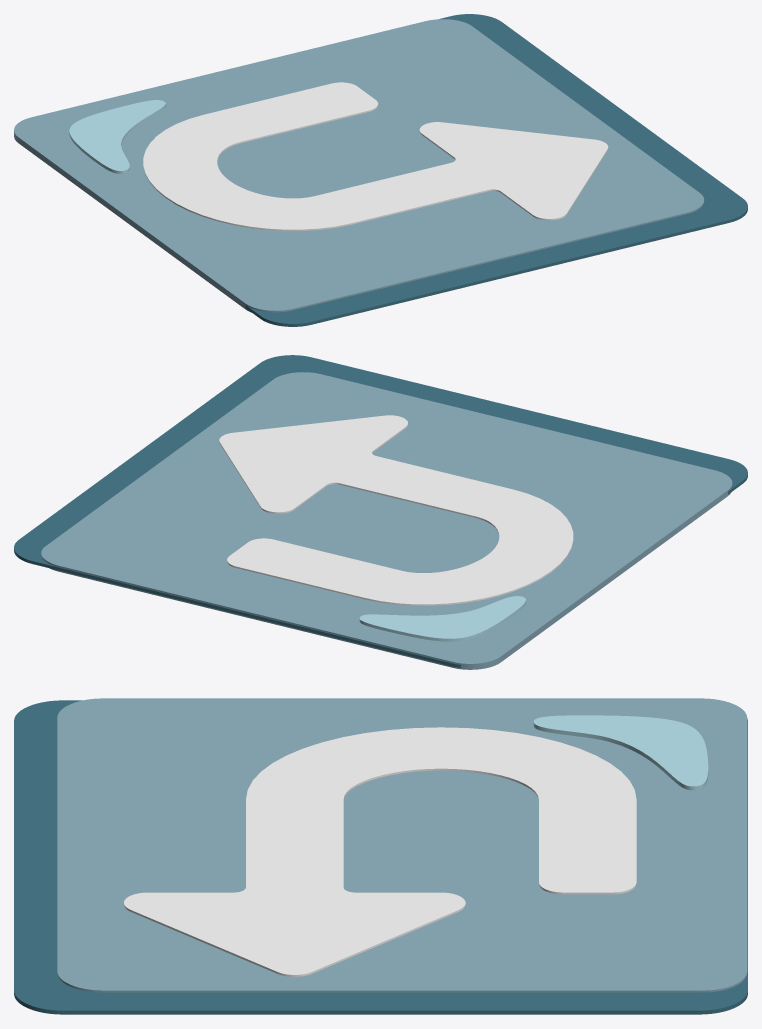
The model's file is emoji_u21aa.glb.
The picture shows the model from 3 angles, top to bottom: view 1: azimuth 30°, elevation 25°; view 2: azimuth 150°, elevation 25°; view 3: azimuth 270°, elevation 25°; orthographic projection. The views are drawn at different scales.
Parts seen in each view (by area): view 1: emoji_u21aa; view 2: emoji_u21aa; view 3: emoji_u21aa.
Part boxes in pixels (x1,y1,x2,y2): emoji_u21aa: (14,14,747,326); emoji_u21aa: (14,355,747,669); emoji_u21aa: (14,698,747,1014).
Size of the model in its own units: 0.0339 by 0.0008 by 0.0339.
